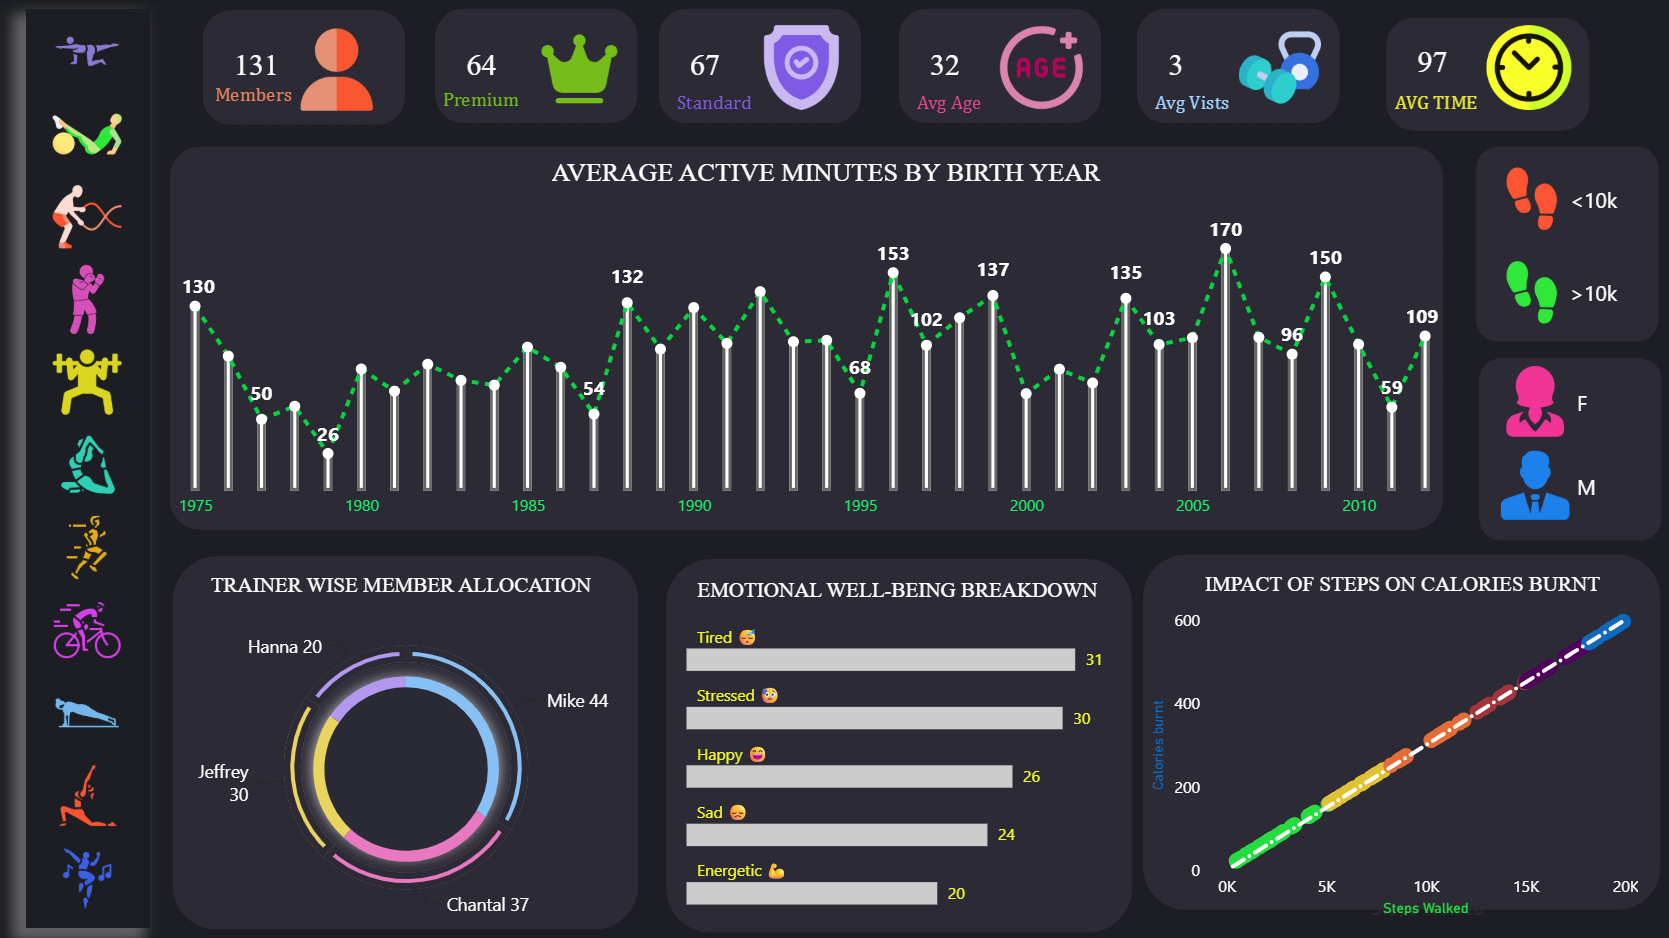

The page's visual inventory and layout, read from the dashboard file:
{"tool":"powerbi","page":{"name":"Main","canvas":[1280,720],"ordinal":0},"visuals":[{"type":"shape","box":[24,8,94.4,700.8],"z":0,"group":"g1"},{"type":"group","id":"g1","title":"left slicers","box":[24,8,94.4,700.8],"z":0},{"type":"shape","box":[336.7,8.3,154.4,87.7],"z":0,"group":"g5"},{"type":"shape","box":[506.1,8.3,154.4,87.7],"z":0,"group":"g6"},{"type":"shape","box":[688.5,8.3,154.4,87.7],"z":0,"group":"g7"},{"type":"shape","box":[871,8.3,154.4,87.7],"z":0,"group":"g8"},{"type":"shape","box":[158.6,8.4,154.4,87.7],"z":0,"group":"g9"},{"type":"shape","box":[1060.8,14.4,155.2,86.4],"z":0,"group":"g4"},{"type":"shape","box":[1129.6,113.6,139.2,148.8],"z":0,"group":"g11"},{"type":"shape","box":[1131.4,274.3,139.2,139.2],"z":0,"group":"g10"},{"type":"shape","box":[875.7,424.2,394.4,270.9],"z":0,"group":"g14"},{"type":"shape","box":[136,424.6,355.2,284.8],"z":0,"group":"g12"},{"type":"shape","box":[512.3,427.5,355.2,284.8],"z":0,"group":"g13"},{"type":"lineChart","title":"markers_linechart","fields":{"Category":["Gym Dataset.steps"],"Series":["Steps bucket.steps bucket"],"Y":["Sum(Gym Dataset.calories_burned)"]},"box":[875.7,454.6,381.6,251.1],"z":0,"group":"g3"},{"type":"shape","box":[232,507.8,163.5,158.3],"z":0,"group":"g2"},{"type":"image","box":[413.9,0,64.7,106.4],"z":1000,"group":"g5"},{"type":"image","box":[583.3,0,64.7,106.4],"z":1000,"group":"g6"},{"type":"image","box":[765.7,0,64.7,106.4],"z":1000,"group":"g7"},{"type":"image","box":[948.2,0,64.7,106.4],"z":1000,"group":"g8"},{"type":"image","box":[1137.4,0,64.7,106.4],"z":1000,"group":"g4"},{"type":"image","box":[229.6,4.3,62.6,100.2],"z":1000,"group":"g9"},{"type":"advancedSlicerVisual","fields":{"Values":["Exercise.fav_group_lesson.1.1"]},"box":[24,8,94.4,700.8],"z":1000,"group":"g1"},{"type":"advancedSlicerVisual","fields":{"Values":["Steps Category.Steps Category"]},"box":[1140.8,116.8,128,145.6],"z":1000,"group":"g11"},{"type":"advancedSlicerVisual","fields":{"Values":["Gender.gender label"]},"box":[1141,274.5,139.2,130.2],"z":1000,"group":"g10"},{"type":"shape","box":[521.9,427.5,334.4,48],"z":1000,"group":"g13"},{"type":"group","id":"g2","title":"Donut","box":[136,451.8,355.2,268.8],"z":1000,"group":"g12"},{"type":"donutChart","fields":{"Category":["Gym Dataset.name_personal_trainer"],"Y":["CountNonNull(Gym Dataset.id)"]},"box":[136,451.8,355.2,268.8],"z":1000,"group":"g2"},{"type":"group","id":"g3","title":"line chart","box":[875.7,454.6,381.6,251.1],"z":1000,"group":"g14"},{"type":"lineChart","title":"line_linechart","fields":{"Category":["Gym Dataset.steps"],"Y":["Sum(Gym Dataset.calories_burned)"]},"box":[876.4,458.7,380.9,244.1],"z":1000,"group":"g3"},{"type":"group","id":"g4","title":"Avg time card","box":[1043.2,0,172.8,124.8],"z":2000},{"type":"cardVisual","fields":{"Data":["CountNonNull(Gym Dataset.id)"]},"box":[158.6,10.4,127.3,81.4],"z":2000,"group":"g9"},{"type":"cardVisual","fields":{"Data":["CountNonNull(Gym Dataset (2).id)"]},"box":[317.9,33.4,173.2,89.7],"z":2000,"group":"g5"},{"type":"cardVisual","fields":{"Data":["CountNonNull(Gym Dataset (2).id)"]},"box":[495.9,33.9,177.9,90.4],"z":2000,"group":"g6"},{"type":"cardVisual","fields":{"Data":["CountNonNull(Gym Dataset (2).id)"]},"box":[678.3,33.9,177.9,90.4],"z":2000,"group":"g7"},{"type":"cardVisual","fields":{"Data":["CountNonNull(Gym Dataset (2).id)"]},"box":[860.8,33.9,177.9,90.4],"z":2000,"group":"g8"},{"type":"cardVisual","fields":{"Data":["Measure_table.avg_time"]},"box":[1043.2,35.2,172.8,89.6],"z":2000,"group":"g4"},{"type":"shape","box":[143.4,424,334.4,48],"z":2000,"group":"g12"},{"type":"shape","box":[906,424.2,333.7,45.7],"z":2000,"group":"g14"},{"type":"donutChart","fields":{"Category":["Gym Dataset.name_personal_trainer"],"Y":["CountNonNull(Gym Dataset.id)"]},"box":[169.7,493.5,286.7,186.8],"z":2000,"group":"g2"},{"type":"group","id":"g5","title":"Premium card","box":[317.9,0,173.2,123.1],"z":3000},{"type":"cardVisual","fields":{"Data":["CountNonNull(Gym Dataset.abonoment_type)"]},"box":[336.7,10.4,127.3,81.4],"z":3000,"group":"g5"},{"type":"cardVisual","fields":{"Data":["CountNonNull(Gym Dataset.abonoment_type)"]},"box":[506.1,10.4,127.3,81.4],"z":3000,"group":"g6"},{"type":"cardVisual","fields":{"Data":["Measure_table.avg_age"]},"box":[688.5,10.4,127.3,81.4],"z":3000,"group":"g7"},{"type":"cardVisual","fields":{"Data":["Measure_table.avg_visit"]},"box":[871,10.4,127.3,81.4],"z":3000,"group":"g8"},{"type":"cardVisual","fields":{"Data":["Measure_table.avg_time"]},"box":[1060.2,14.6,131.5,66.8],"z":3000,"group":"g4"},{"type":"cardVisual","fields":{"Data":["CountNonNull(Gym Dataset (2).id)"]},"box":[144,35.5,169,77.2],"z":3000,"group":"g9"},{"type":"clusteredBarChart","fields":{"Category":["Mood.Mood"],"Y":["CountNonNull(Gym Dataset.id)","CountNonNull(Gym Dataset.mood)"]},"box":[522.2,464.7,344.3,231.7],"z":3000,"group":"g13"},{"type":"group","id":"g6","title":"Standard card","box":[495.9,0,177.6,124.8],"z":4000},{"type":"group","id":"g7","title":" Age card","box":[678.3,0,177.6,124.8],"z":5000},{"type":"group","id":"g8","title":"Vists card","box":[860.8,0,177.6,124.8],"z":6000},{"type":"group","id":"g9","title":"members card","box":[144,4.3,169,108.4],"z":7000},{"type":"group","id":"g10","title":"gender slicer","box":[1131.4,274.3,148.6,139.4],"z":8000},{"type":"group","id":"g11","title":"Steps slicer","box":[1129.6,113.6,139.2,148.8],"z":9000},{"type":"group","id":"g12","title":"complete donut","box":[136,424,355.2,296.6],"z":10000},{"type":"group","id":"g13","title":"complete bar chart","box":[512.3,427.5,355.2,284.8],"z":11000},{"type":"group","id":"g14","title":"complete line chart","box":[875.7,424.2,394.4,281.5],"z":12000},{"type":"shape","box":[133.6,112.7,970.4,292.2],"z":12500,"group":"g15"},{"type":"shape","box":[381.9,108.5,504.6,48],"z":13000,"group":"g15"},{"type":"lineStackedColumnComboChart","fields":{"Category":["Birth data.birthday.3"],"Y":["Avg(Gym Dataset.active_minutes)"],"Y2":["Avg(Gym Dataset.active_minutes)"]},"box":[133.6,144,970.4,260.9],"z":14000,"group":"g15"},{"type":"group","id":"g15","title":"complete line bar chart","box":[133.6,108.5,970.4,296.4],"z":14001}]}

Visuals, with their boxes in screenshot pixels (x1, y1, x2, y2), scaled from the page's 1280x720 canvas onto the 1669x938 screenshot:
shape: region(31, 10, 154, 923)
"left slicers" group: region(31, 10, 154, 923)
shape: region(439, 11, 640, 125)
shape: region(660, 11, 861, 125)
shape: region(898, 11, 1099, 125)
shape: region(1136, 11, 1337, 125)
shape: region(207, 11, 408, 125)
shape: region(1383, 19, 1586, 131)
shape: region(1473, 148, 1654, 342)
shape: region(1475, 357, 1657, 539)
shape: region(1142, 553, 1656, 906)
shape: region(177, 553, 640, 924)
shape: region(668, 557, 1131, 928)
"markers_linechart" lineChart: region(1142, 592, 1639, 919)
shape: region(303, 662, 516, 868)
image: region(540, 0, 624, 139)
image: region(761, 0, 845, 139)
image: region(998, 0, 1083, 139)
image: region(1236, 0, 1321, 139)
image: region(1483, 0, 1567, 139)
image: region(299, 6, 381, 136)
advancedSlicerVisual - Exercise.fav_group_lesson.1.1: region(31, 10, 154, 923)
advancedSlicerVisual - Steps Category.Steps Category: region(1487, 152, 1654, 342)
advancedSlicerVisual - Gender.gender label: region(1488, 358, 1668, 527)
shape: region(681, 557, 1117, 619)
"Donut" group: region(177, 589, 640, 937)
donutChart - Gym Dataset.name_personal_trainer x CountNonNull(Gym Dataset.id): region(177, 589, 640, 937)
"line chart" group: region(1142, 592, 1639, 919)
"line_linechart" lineChart: region(1143, 598, 1639, 916)
"Avg time card" group: region(1360, 0, 1586, 163)
cardVisual - CountNonNull(Gym Dataset.id): region(207, 14, 373, 120)
cardVisual - CountNonNull(Gym Dataset (2).id): region(415, 44, 640, 160)
cardVisual - CountNonNull(Gym Dataset (2).id): region(647, 44, 879, 162)
cardVisual - CountNonNull(Gym Dataset (2).id): region(884, 44, 1116, 162)
cardVisual - CountNonNull(Gym Dataset (2).id): region(1122, 44, 1354, 162)
cardVisual - Measure_table.avg_time: region(1360, 46, 1586, 163)
shape: region(187, 552, 623, 615)
shape: region(1181, 553, 1616, 612)
donutChart - Gym Dataset.name_personal_trainer x CountNonNull(Gym Dataset.id): region(221, 643, 595, 886)
"Premium card" group: region(415, 0, 640, 160)
cardVisual - CountNonNull(Gym Dataset.abonoment_type): region(439, 14, 605, 120)
cardVisual - CountNonNull(Gym Dataset.abonoment_type): region(660, 14, 826, 120)
cardVisual - Measure_table.avg_age: region(898, 14, 1064, 120)
cardVisual - Measure_table.avg_visit: region(1136, 14, 1302, 120)
cardVisual - Measure_table.avg_time: region(1382, 19, 1554, 106)
cardVisual - CountNonNull(Gym Dataset (2).id): region(188, 46, 408, 147)
clusteredBarChart - Mood.Mood x CountNonNull(Gym Dataset.id): region(681, 605, 1130, 907)
"Standard card" group: region(647, 0, 878, 163)
" Age card" group: region(884, 0, 1116, 163)
"Vists card" group: region(1122, 0, 1354, 163)
"members card" group: region(188, 6, 408, 147)
"gender slicer" group: region(1475, 357, 1668, 539)
"Steps slicer" group: region(1473, 148, 1654, 342)
"complete donut" group: region(177, 552, 640, 937)
"complete bar chart" group: region(668, 557, 1131, 928)
"complete line chart" group: region(1142, 553, 1656, 919)
shape: region(174, 147, 1440, 527)
shape: region(498, 141, 1156, 204)
lineStackedColumnComboChart - Birth data.birthday.3 x Avg(Gym Dataset.active_minutes): region(174, 188, 1440, 527)
"complete line bar chart" group: region(174, 141, 1440, 527)
